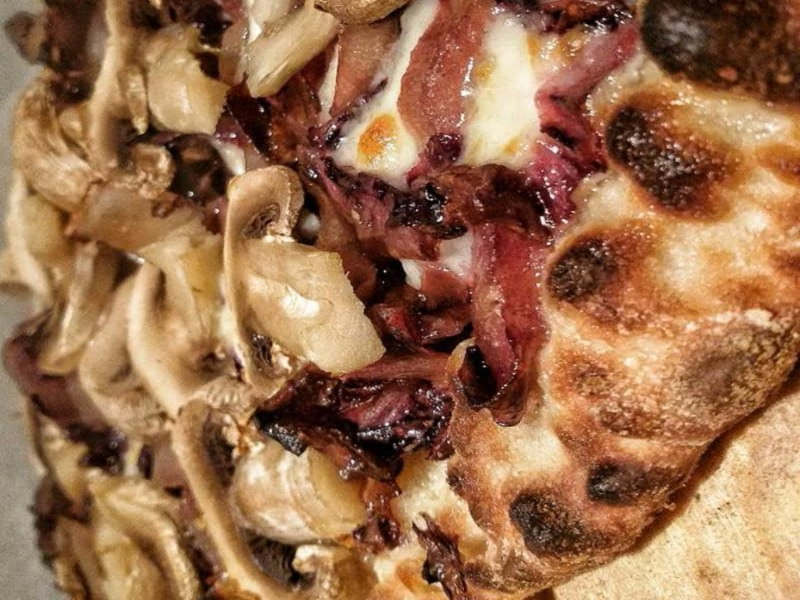champignon: (215, 163, 388, 406)
